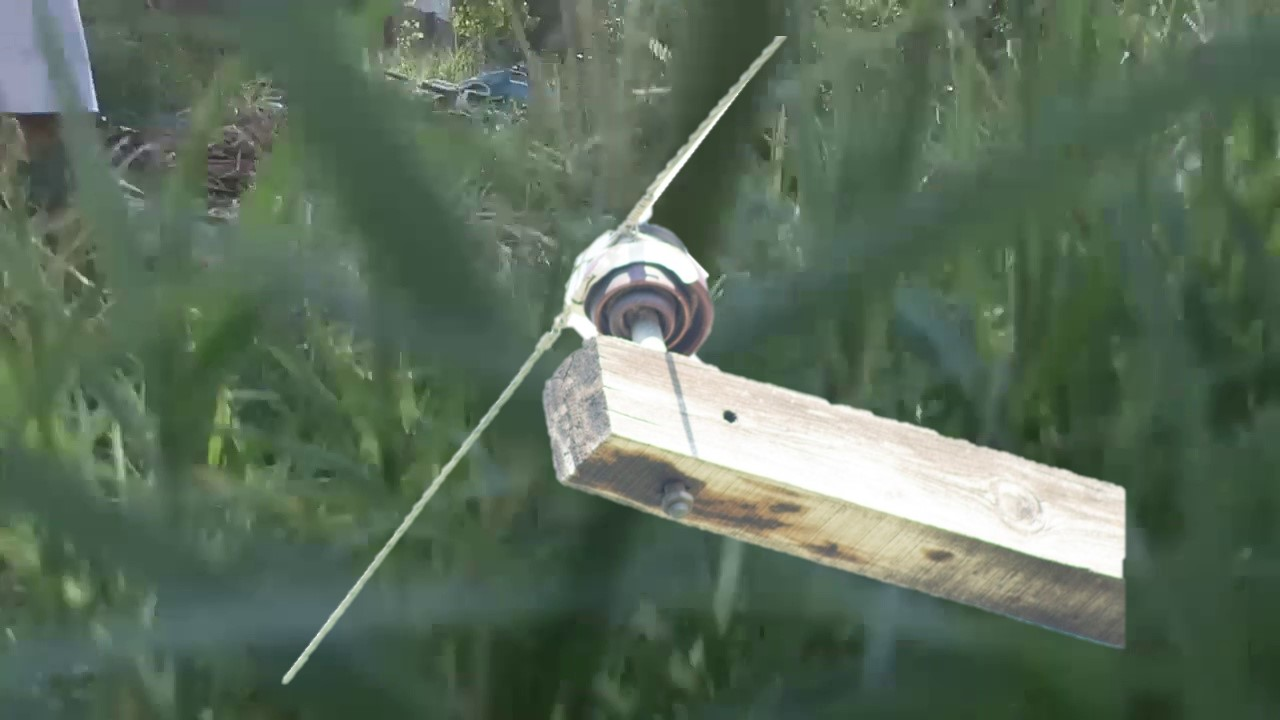defect_pin: (553, 212, 726, 361)
